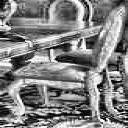chair_success: (8, 3, 126, 125)
